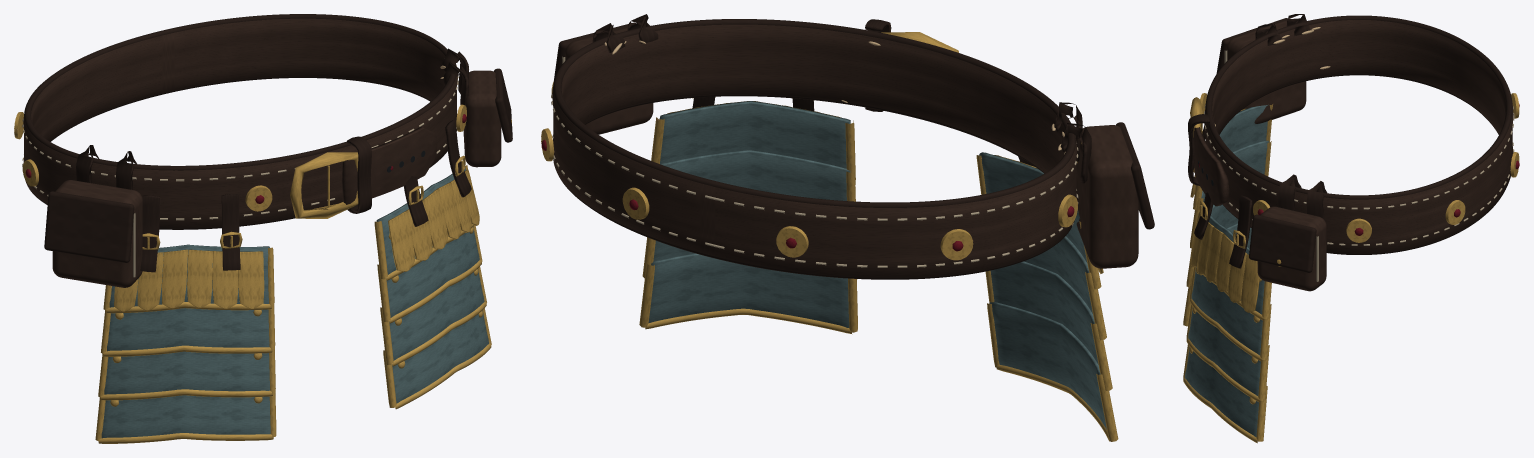
3 renders of one model, left to right at view 1: azimuth 30°, elevation 25°; view 2: azimuth 150°, elevation 25°; view 3: azimuth 270°, elevation 25°, orthographic. The views are drawn at different scales.
Visible parts, largest first — view 1: tanned leather, blued scale plate, gilded alloy, oiled strap leather, waxed linen thread; view 2: tanned leather, blued scale plate, oiled strap leather, gilded alloy, waxed linen thread; view 3: tanned leather, oiled strap leather, blued scale plate, gilded alloy, waxed linen thread.
Boxes of the visible parts, x1=… form: tanned leather: x1=23, y1=18, x2=501, y2=287; blued scale plate: x1=101, y1=168, x2=488, y2=438; gilded alloy: x1=14, y1=66, x2=511, y2=443; oiled strap leather: x1=24, y1=14, x2=512, y2=272; waxed linen thread: x1=22, y1=76, x2=458, y2=277; tanned leather: x1=552, y1=24, x2=1138, y2=277; blued scale plate: x1=648, y1=101, x2=1106, y2=429; oiled strap leather: x1=553, y1=14, x2=1154, y2=279; gilded alloy: x1=541, y1=32, x2=1118, y2=441; waxed linen thread: x1=551, y1=56, x2=1078, y2=267; tanned leather: x1=1194, y1=20, x2=1513, y2=291; oiled strap leather: x1=1188, y1=14, x2=1512, y2=272; blued scale plate: x1=1185, y1=104, x2=1269, y2=436; gilded alloy: x1=1183, y1=93, x2=1519, y2=443; waxed linen thread: x1=1204, y1=50, x2=1514, y2=281.
Size of the model in its own units: 0.4568 by 0.2523 by 0.2956.
Materials: 9 (6 with a texture image).
